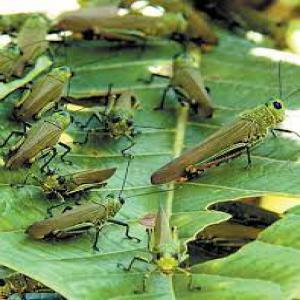locust: (127, 71, 283, 197), (21, 159, 120, 203), (243, 50, 286, 83)
